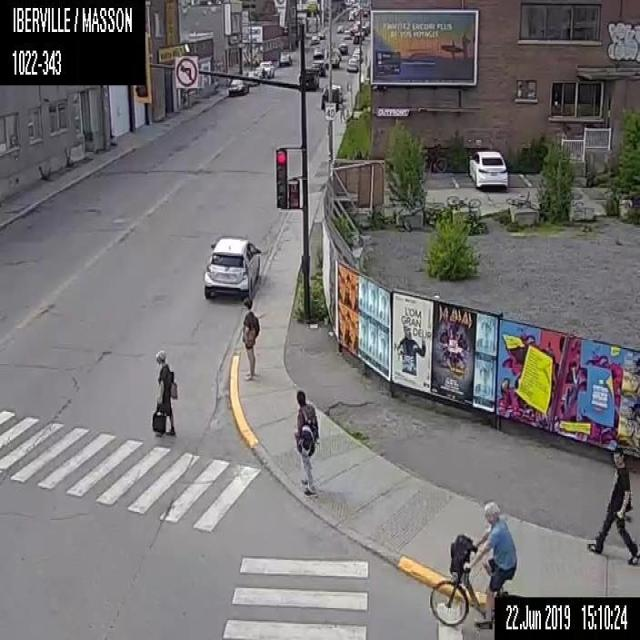cyclist: (428, 497, 516, 627)
pedestrian: (586, 446, 639, 566), (294, 388, 319, 495), (150, 346, 178, 434), (239, 296, 260, 381)
vehicle: (201, 233, 261, 300), (467, 148, 508, 192), (298, 64, 319, 91), (226, 73, 249, 95), (319, 85, 338, 110), (244, 68, 261, 86), (259, 60, 274, 78), (277, 50, 291, 66), (312, 59, 326, 75), (346, 55, 358, 71), (312, 44, 324, 60), (350, 31, 363, 44), (336, 40, 348, 54), (309, 34, 320, 44), (336, 22, 344, 34), (316, 30, 326, 38)
